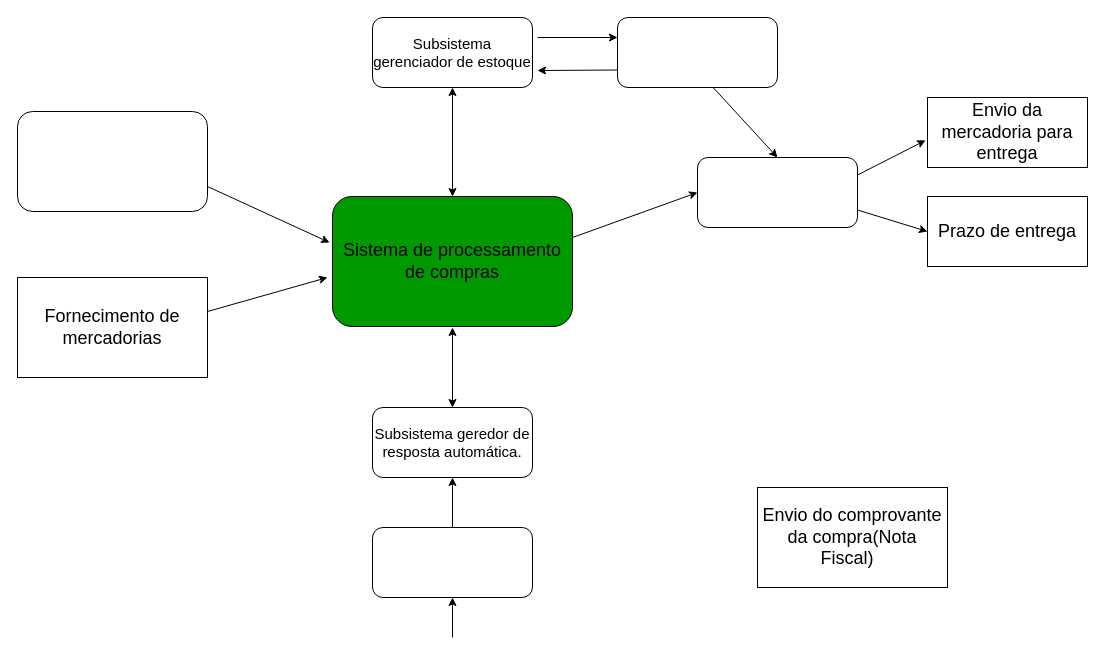
This 1105x663 diagram has some shape labels left out. The centre of each missing label's shape, as x and y in pixels:
"Subsistema de banco de dados(Armazenamento dos dados do cliente)." goes at (x=112, y=161).
"Subsistema de comunicação com o cliente" goes at (x=452, y=562).
"Subsistema de identificação de produtos vendidos" goes at (x=697, y=52).
"Subsistema gerenciador de envio da compra" goes at (x=777, y=192).
